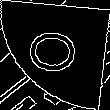O_E: (25, 30, 85, 80)
